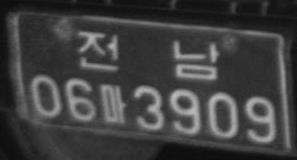0: (207, 89, 241, 141), (29, 72, 64, 119)
3: (133, 84, 165, 132)
6: (65, 76, 97, 122)
9: (169, 86, 204, 137), (244, 94, 278, 145)
마: (98, 83, 129, 126)
전남_D: (76, 26, 220, 85)
